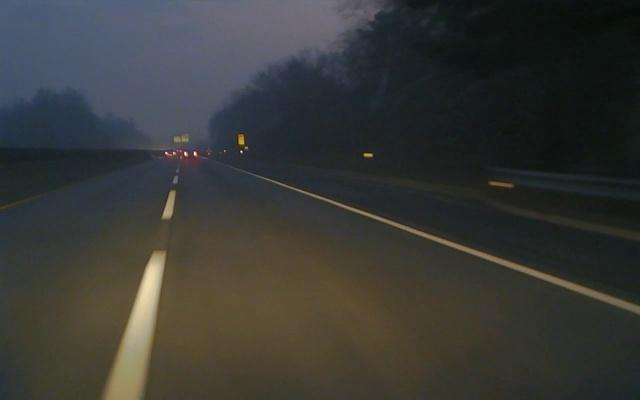lane: (238, 169, 640, 318), (105, 156, 182, 400)
